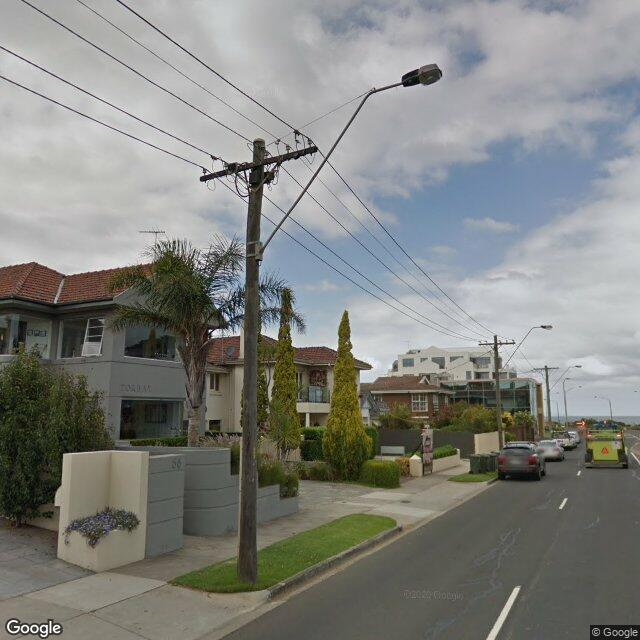crossarm: (200, 147, 318, 182), (478, 342, 516, 346), (533, 368, 559, 370)
streetlight: (256, 64, 443, 260), (497, 325, 552, 375), (548, 365, 582, 393), (565, 386, 582, 392), (594, 396, 610, 401)
timber-pole: (237, 138, 264, 584), (493, 335, 503, 451), (545, 366, 551, 424), (563, 381, 567, 425), (609, 401, 612, 421)
